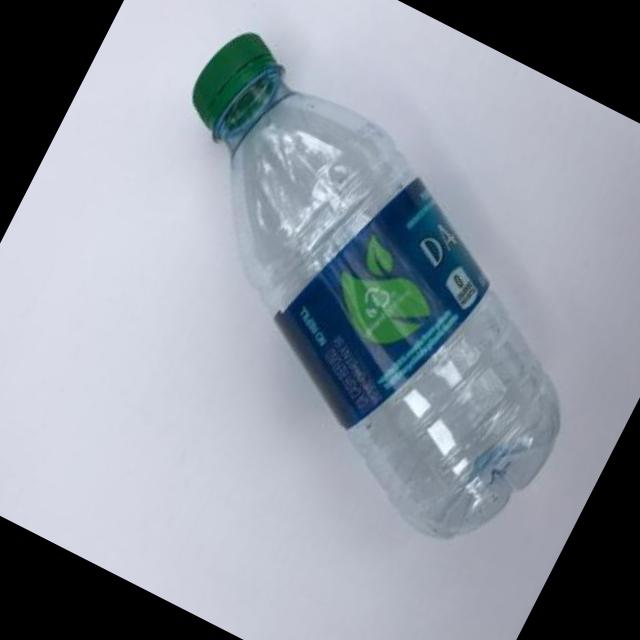BotolPlastik: (57, 16, 640, 569)
